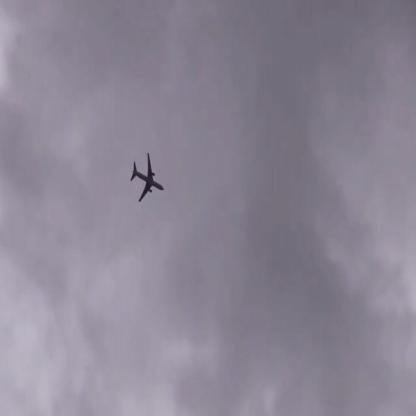CIV_Plane: (130, 154, 165, 202)
